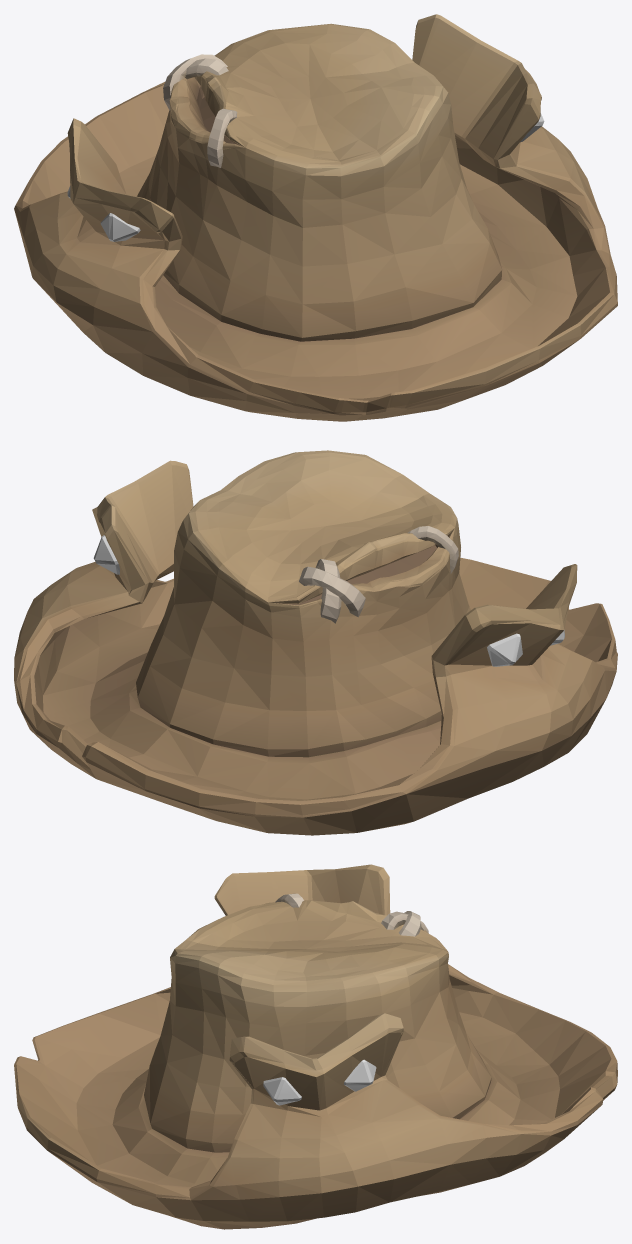
Rendered from CharSkyKid_Hat_AP32ShipHatBroken.glb.
3 renders of one model, top to bottom at view 1: azimuth 30°, elevation 25°; view 2: azimuth 150°, elevation 25°; view 3: azimuth 270°, elevation 25°, orthographic. The views are drawn at different scales.
Visible parts, largest first — view 1: CharSkyKid_Hat_AP32ShipHatBroken; view 2: CharSkyKid_Hat_AP32ShipHatBroken; view 3: CharSkyKid_Hat_AP32ShipHatBroken.
Boxes of the visible parts, x1,y1,x2,y2 form: CharSkyKid_Hat_AP32ShipHatBroken: (14,14,617,421); CharSkyKid_Hat_AP32ShipHatBroken: (14,450,617,835); CharSkyKid_Hat_AP32ShipHatBroken: (14,864,617,1229).
Bounding box in the file's own units: 5.39 × 2.51 × 6.01.
1 material, 1 textured.
